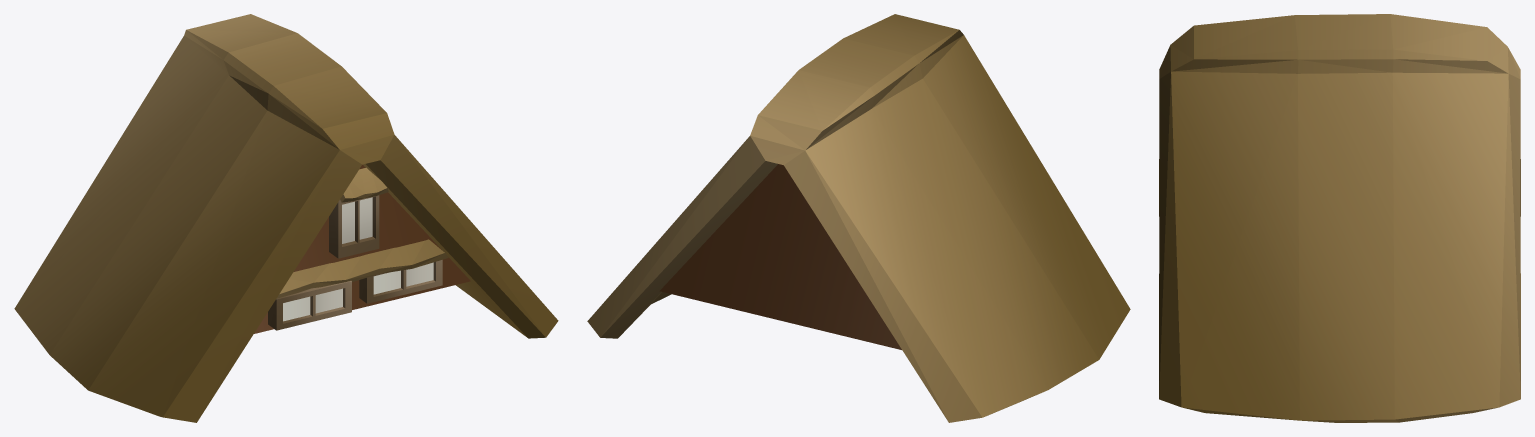
The model's file is Farmhouse_RoofFull.fbx.
3 renders of one model, left to right at view 1: azimuth 30°, elevation 25°; view 2: azimuth 150°, elevation 25°; view 3: azimuth 270°, elevation 25°, orthographic. The views are drawn at different scales.
Visible parts, largest first — view 1: Farmhouse_RoofFull; view 2: Farmhouse_RoofFull; view 3: Farmhouse_RoofFull.
Part boxes in pixels (x1,y1,x2,y2): Farmhouse_RoofFull: (14, 14, 558, 422); Farmhouse_RoofFull: (587, 14, 1130, 422); Farmhouse_RoofFull: (1159, 14, 1520, 422).
Bounding box in the file's own units: 7.12 × 4.3 × 4.8.
Materials: 1 (1 with a texture image).
